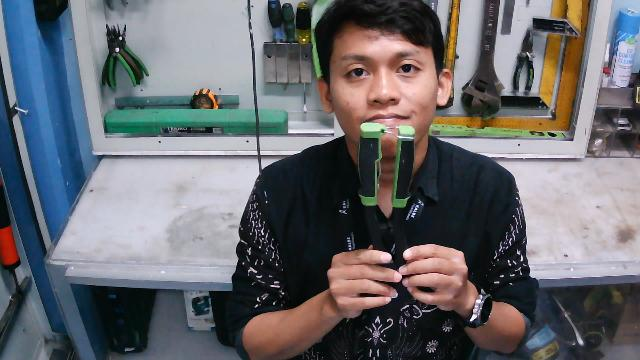tang_rivet: (356, 122, 418, 294)
